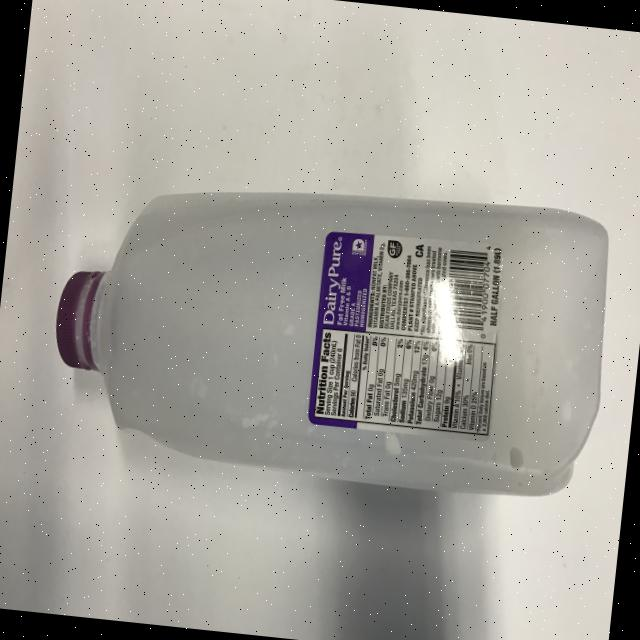plastic: (41, 155, 620, 507)
